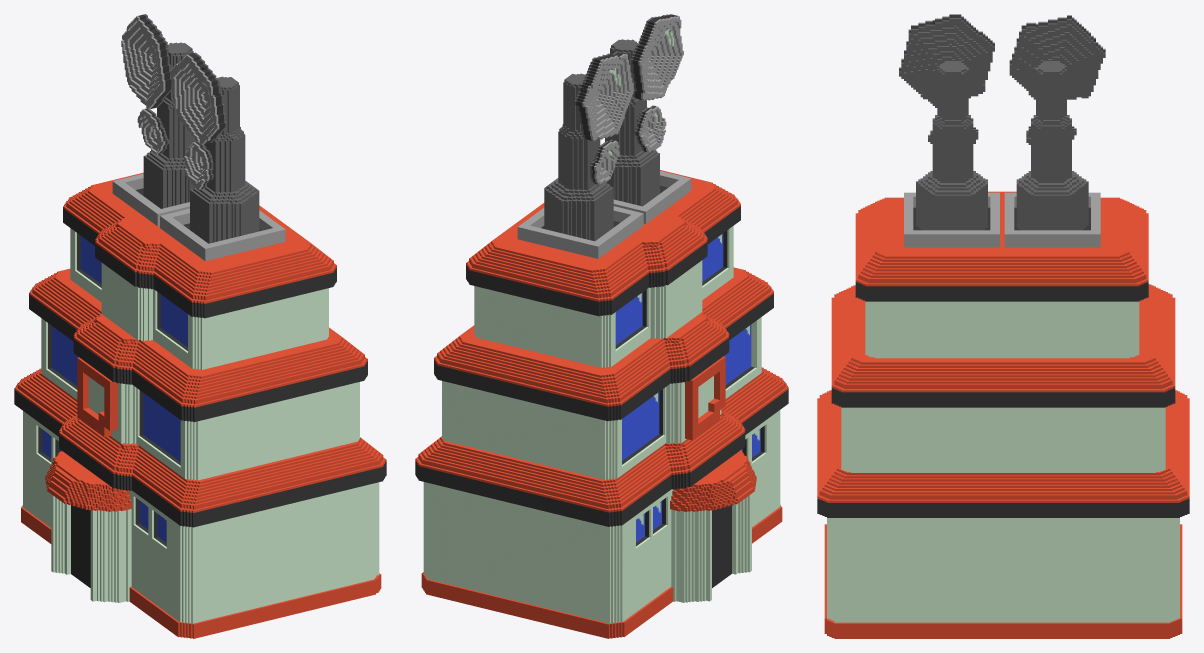
File: KolbenTower.fbx
The picture shows the model from 3 angles, left to right: view 1: azimuth 30°, elevation 25°; view 2: azimuth 150°, elevation 25°; view 3: azimuth 270°, elevation 25°; orthographic projection. The views are drawn at different scales.
Visible parts, largest first — view 1: KolbenTower; view 2: KolbenTower; view 3: KolbenTower.
Boxes of the visible parts, x1,y1,x2,y2 form: KolbenTower: (14, 14, 386, 638); KolbenTower: (415, 14, 788, 638); KolbenTower: (817, 14, 1189, 638).
Size of the model in its own units: 630 by 1275 by 775.
1 material, 1 textured.
